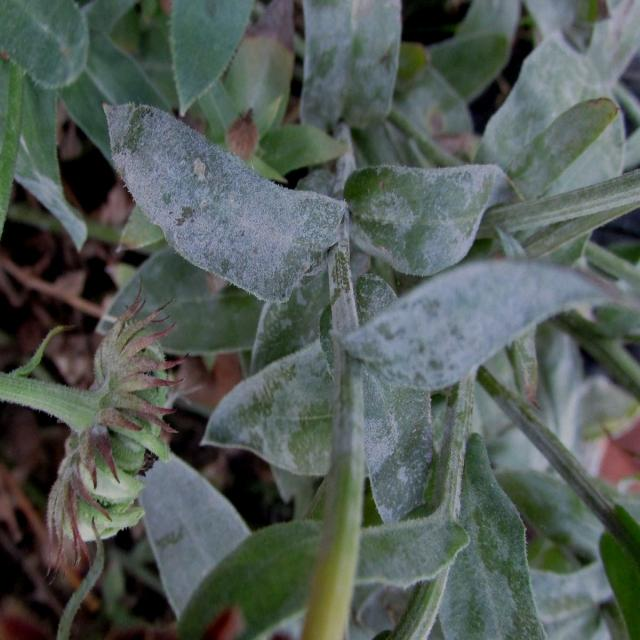Golden_canker: (1, 274, 188, 584)
Powdery Mildew: (101, 99, 347, 304), (339, 256, 633, 393)
